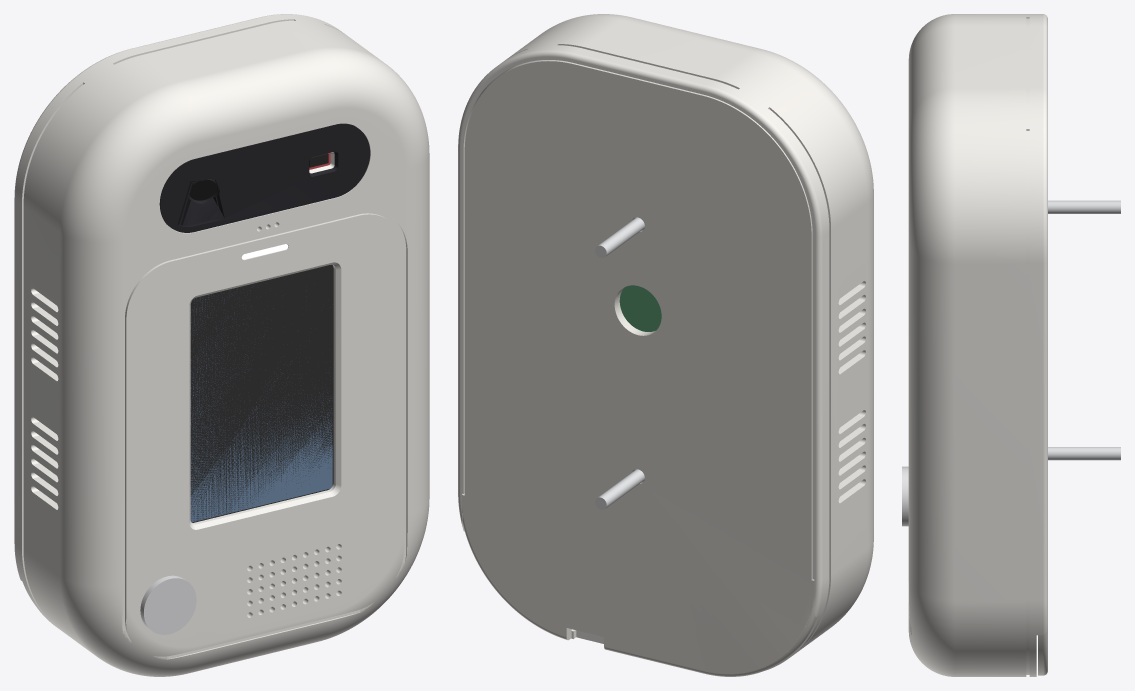
The model's file is DataCat_doorbell_RevE2.glb.
The picture shows the model from 3 angles, left to right: view 1: azimuth 30°, elevation 25°; view 2: azimuth 150°, elevation 25°; view 3: azimuth 270°, elevation 25°; orthographic projection. The views are drawn at different scales.
Visible parts, largest first — view 1: 01_front_shell, REF_hdmi_lcd_3p5in, 04_black_visor, REF_lcd_screen, REF_button_16mm, 06_camera_holder; view 2: 03_wall_plate, 01_front_shell, HW_4x25_wall, REF_raspberry_pi_4; view 3: 01_front_shell, HW_4x25_wall, 03_wall_plate, REF_button_16mm.
Boxes of the visible parts, left/top/right/bottom form: 01_front_shell: left=14, top=14, right=429, bottom=676; REF_hdmi_lcd_3p5in: left=190, top=265, right=333, bottom=522; 04_black_visor: left=159, top=123, right=370, bottom=232; REF_lcd_screen: left=190, top=290, right=332, bottom=522; REF_button_16mm: left=140, top=575, right=196, bottom=634; 06_camera_holder: left=179, top=180, right=219, bottom=225; 03_wall_plate: left=462, top=60, right=817, bottom=676; 01_front_shell: left=458, top=14, right=873, bottom=670; HW_4x25_wall: left=595, top=217, right=644, bottom=509; REF_raspberry_pi_4: left=619, top=285, right=661, bottom=331; 01_front_shell: left=908, top=14, right=1047, bottom=676; HW_4x25_wall: left=1048, top=200, right=1120, bottom=460; 03_wall_plate: left=1038, top=621, right=1047, bottom=675; REF_button_16mm: left=902, top=466, right=908, bottom=526.
Bounding box in the file's own units: 0.124 × 0.1928 × 0.066.
